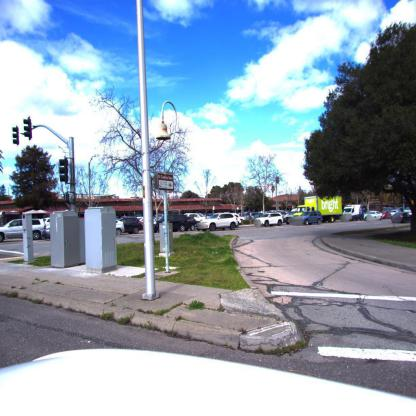car: (0, 217, 50, 244), (154, 213, 193, 232), (204, 212, 242, 231), (116, 216, 143, 234), (254, 213, 284, 227), (184, 213, 208, 230), (343, 204, 365, 221), (301, 211, 323, 225), (391, 209, 410, 223), (366, 212, 384, 221)
truck: (304, 188, 342, 221)
